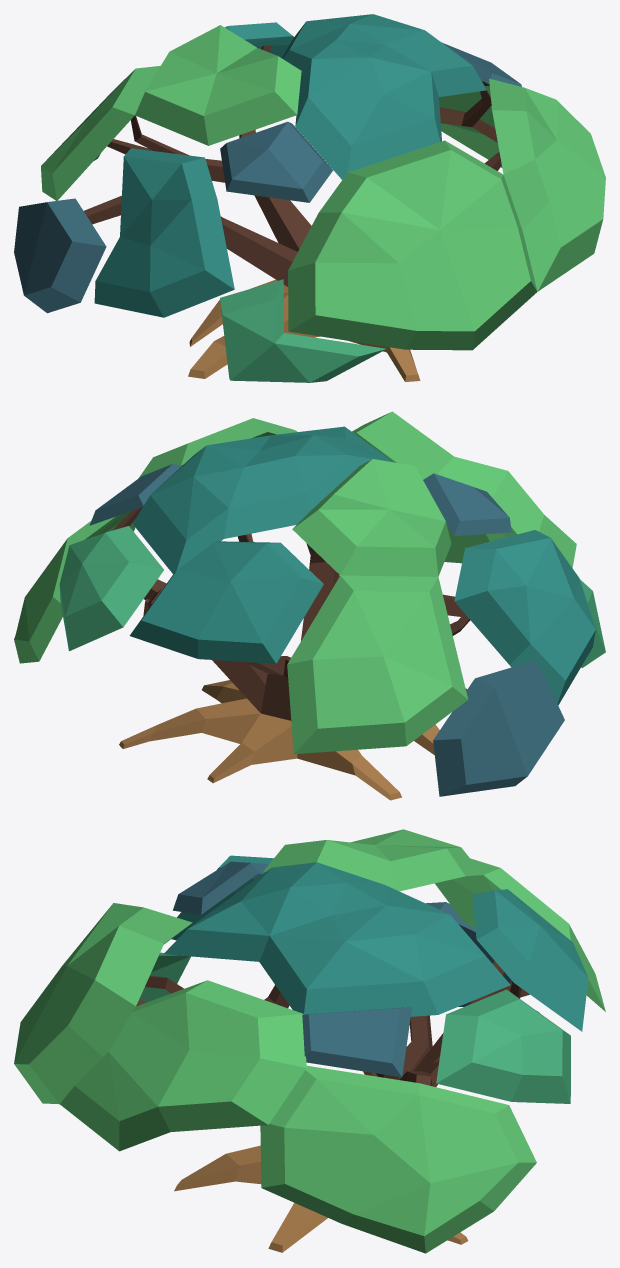
File: Tree_Type9_1.fbx
The picture shows the model from 3 angles, top to bottom: view 1: azimuth 30°, elevation 25°; view 2: azimuth 150°, elevation 25°; view 3: azimuth 270°, elevation 25°; orthographic projection. The views are drawn at different scales.
Parts seen in each view (by area): view 1: Tree_Type9_1; view 2: Tree_Type9_1; view 3: Tree_Type9_1.
Boxes of the visible parts, x1=… form: Tree_Type9_1: x1=14, y1=14, x2=605, y2=382; Tree_Type9_1: x1=14, y1=411, x2=605, y2=800; Tree_Type9_1: x1=14, y1=829, x2=605, y2=1253.
Size of the model in its own units: 703 by 389 by 646.
